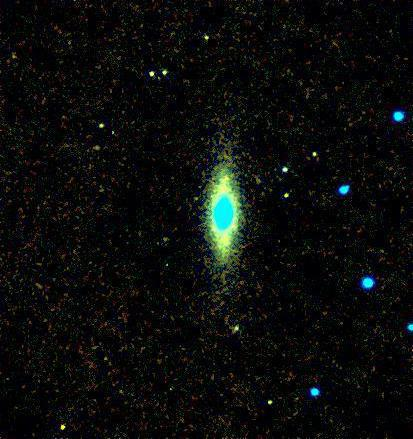star: (46, 413, 76, 439)
